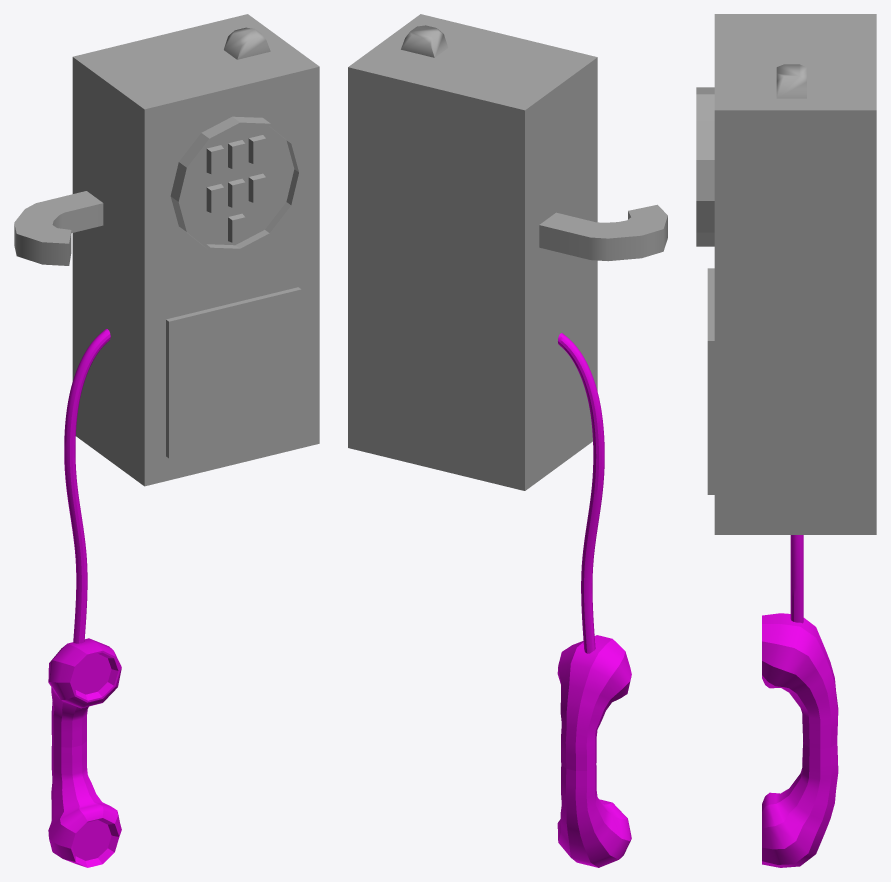
The model's file is TelefoneVar1.fbx.
3 views of the same model, side by side, from view 1: azimuth 30°, elevation 25°; view 2: azimuth 150°, elevation 25°; view 3: azimuth 270°, elevation 25° (orthographic). The views are drawn at different scales.
Visible parts, largest first — view 1: Caixa3; view 2: Caixa3; view 3: Caixa3.
Boxes of the visible parts, <box> form: Caixa3: <box>14,14,319,867</box>; Caixa3: <box>348,14,667,867</box>; Caixa3: <box>696,14,876,867</box>.
Bounding box in the file's own units: 0.7952 × 2.19 × 0.4053.
